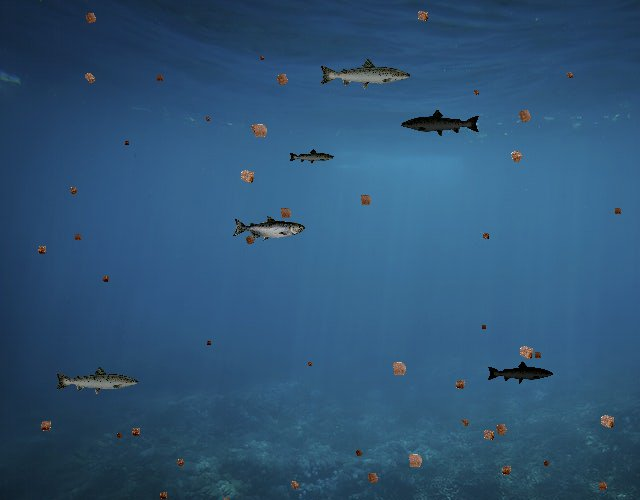Fish: (319, 58, 413, 91), (54, 365, 140, 396), (401, 108, 482, 138), (233, 215, 306, 241), (486, 360, 554, 385), (288, 149, 335, 166)
Pellet: (512, 103, 538, 129), (504, 144, 529, 169), (78, 67, 100, 89), (478, 229, 492, 243), (540, 457, 553, 470), (202, 113, 212, 124)
